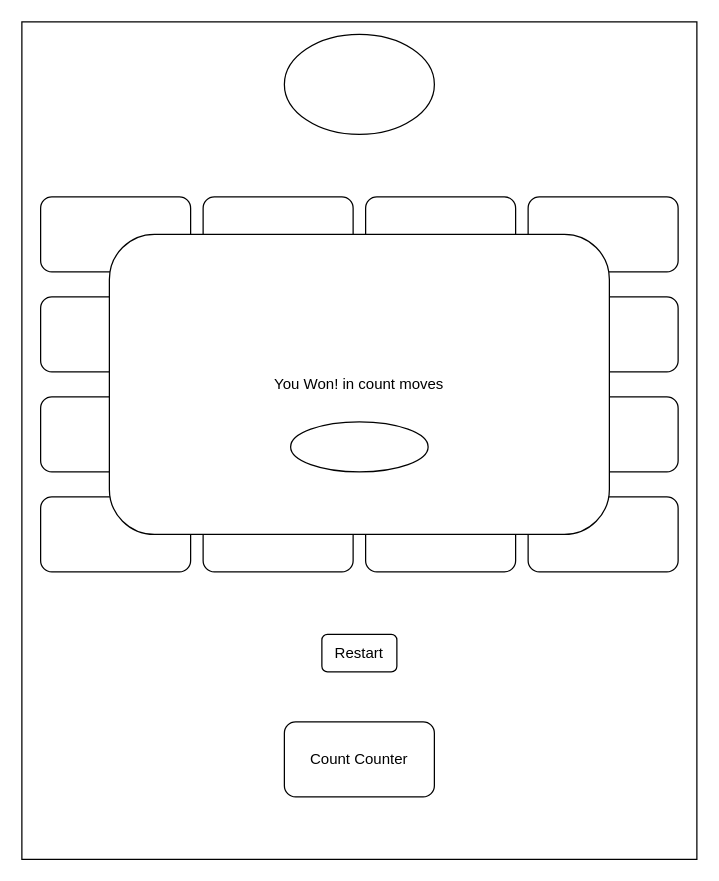
The diagram is 719 pixels wide and 881 high, and some of its shapes have lost their labels. Here are the shapes that lost their labels. From the top down, the box of each, then its label:
(283, 33, 434, 134): Project Card Game
(289, 421, 428, 472): Play Again
